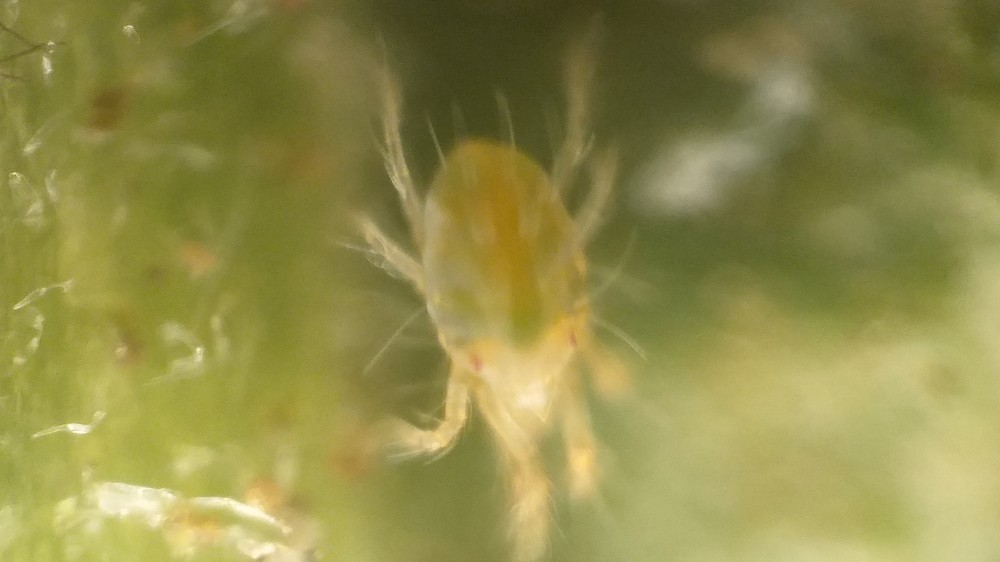Aracnido Rojo: (298, 46, 720, 562)
